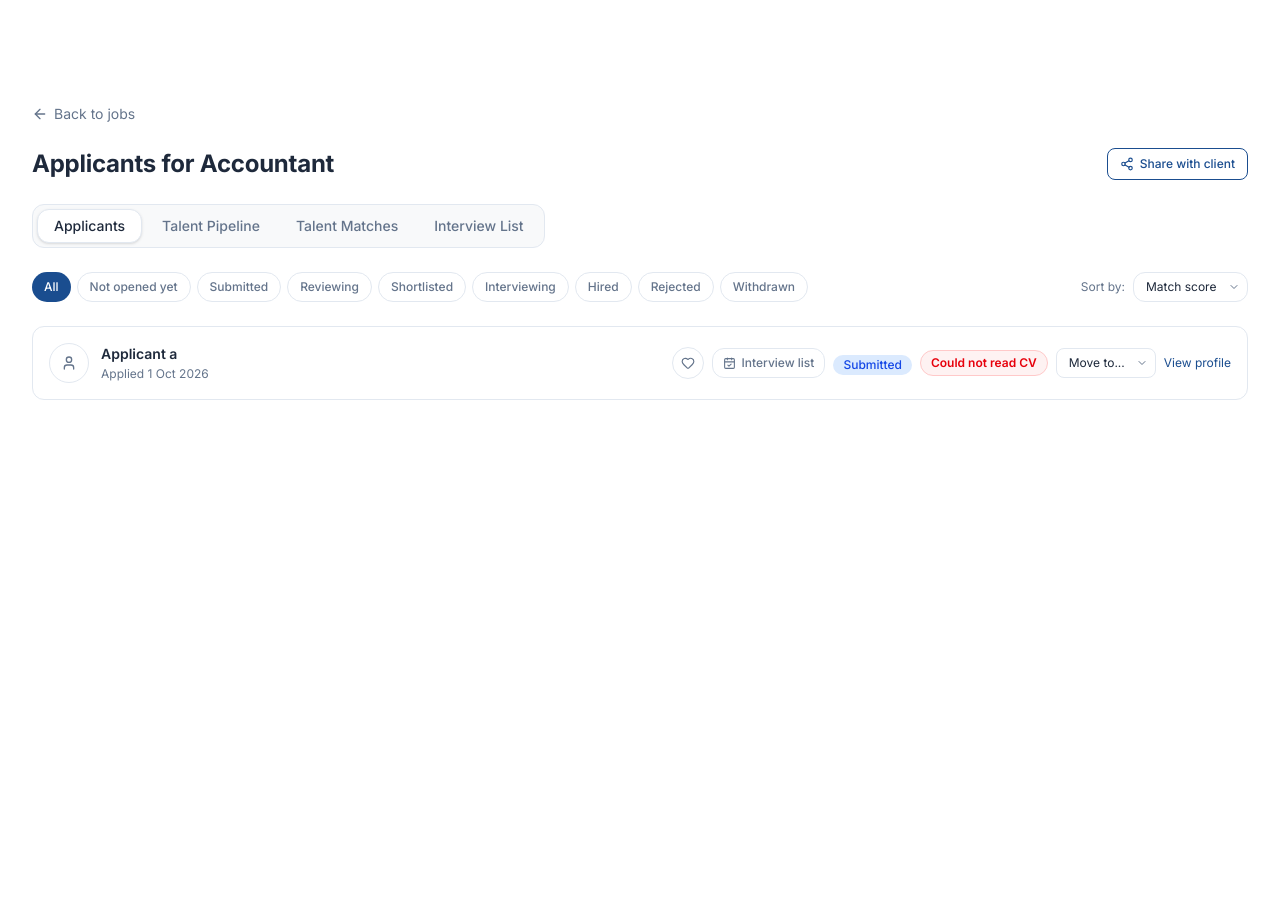
Test: ApplicantsPage, applicants with no score › says the CV could not be read, and explains it when pressed
Expected: the text "Applicant a" is shown, [101,345,177,362]
Click the button with aria-label "Match score: Could not read CV" at (984, 363), box [920,350,1048,376]
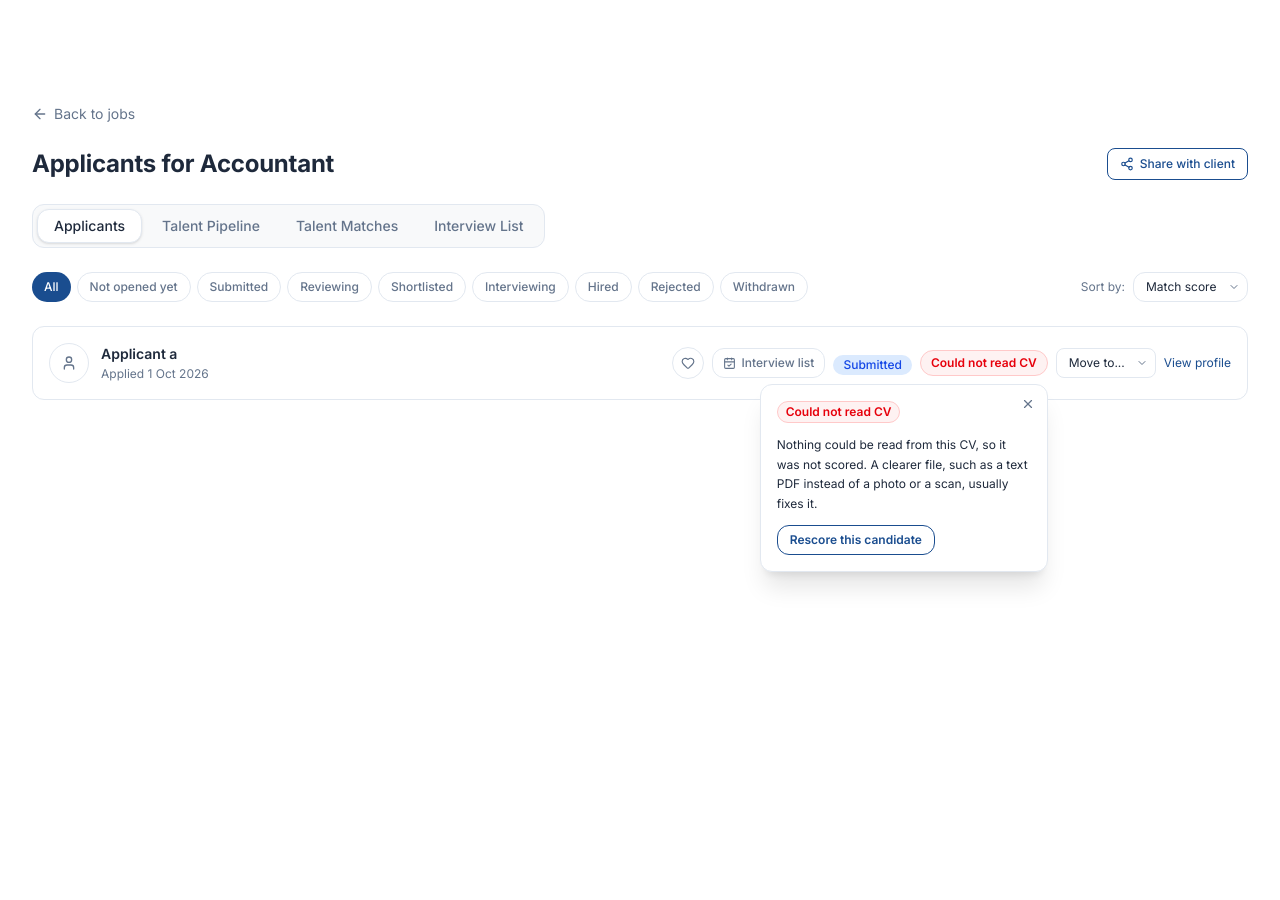
Expected: the dialog named "Fit reasoning" does not show "raw:", [760,384,1048,572]
Expected: the dialog named "Fit reasoning" shows "Nothing could be read from this CV", [777,437,1028,510]
